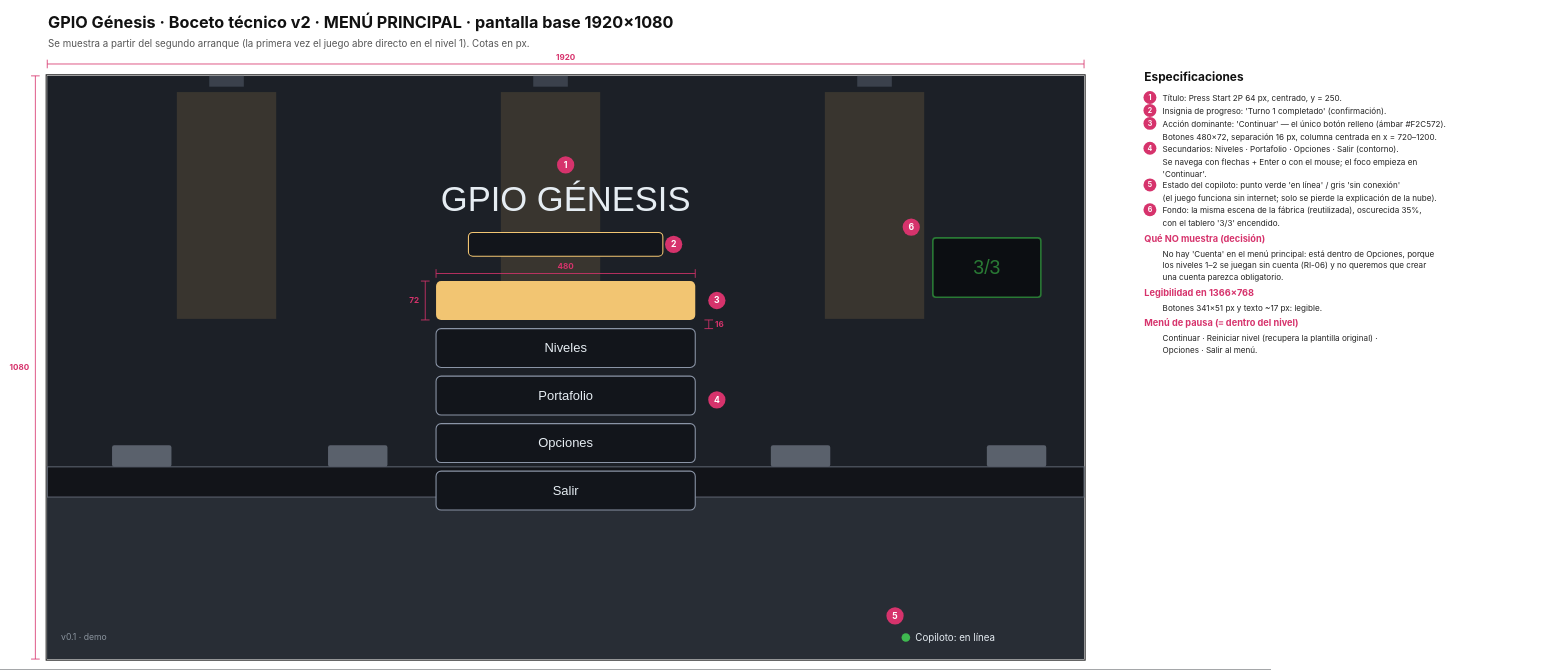
This 1548x670 diagram has some shape labels left out. The shapes that lost their labels are listed below. From the top down, each one's centre as x and y in pixels, then its label:
At (x=565, y=244): "Turno 1 completado".
At (x=565, y=300): "▶ Continuar".
